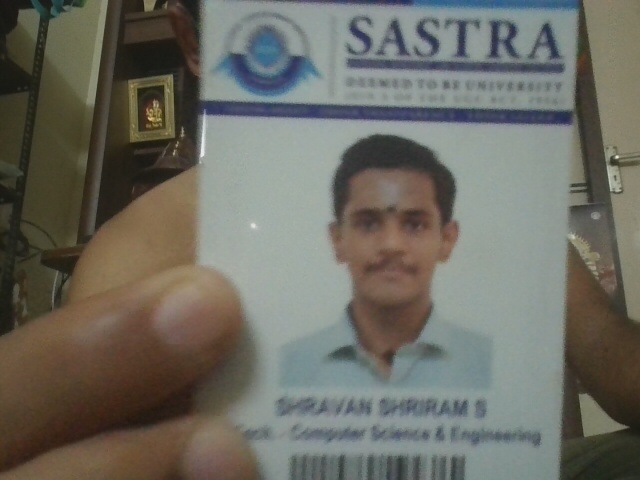fake: (324, 171, 456, 303)
